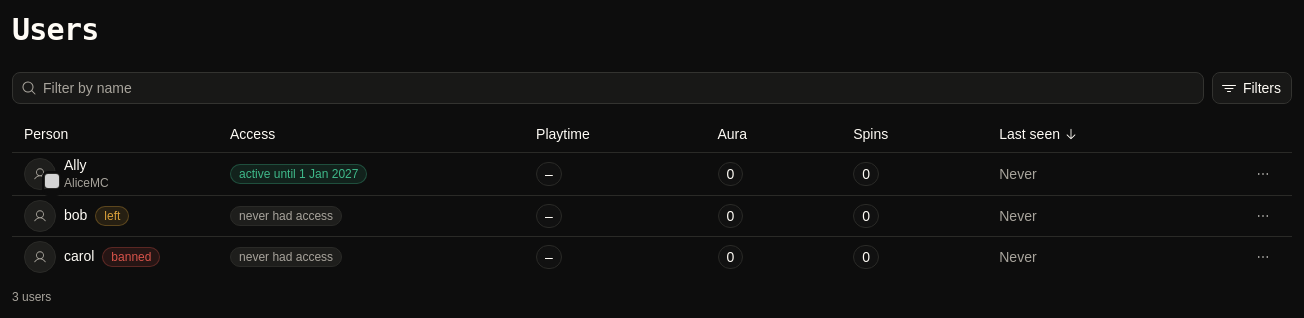
Test: AccessPage - search over four things › finds an account by its Minecraft name, which is not what is displayed
This screenshot has width=1304, height=318.
Type "AliceMC" into the search field labelled "Filter by name".
click(620, 88); type("AliceMC")  # box [37,73,1203,103]
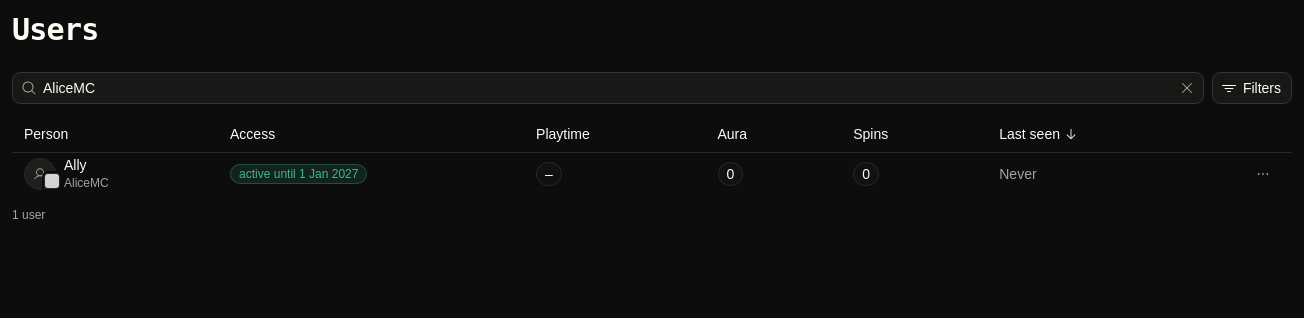
Now the link "bob" is gone
